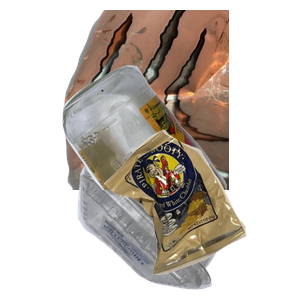glass: (60, 63, 300, 243)
metal: (60, 10, 300, 190)
plastic: (75, 147, 289, 300)
trash: (101, 127, 300, 300)
